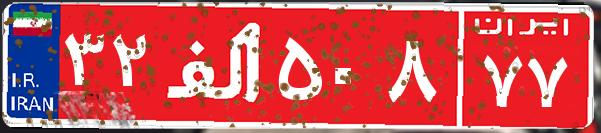0: (330, 28, 385, 110)
2: (110, 28, 158, 105)
3: (57, 26, 110, 107)
5: (273, 28, 330, 110)
7: (475, 38, 525, 113), (525, 38, 570, 115)
8: (385, 28, 445, 110)
الف: (158, 15, 273, 115)
